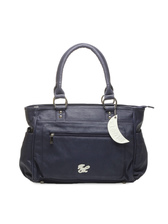bag: (16, 41, 159, 187)
